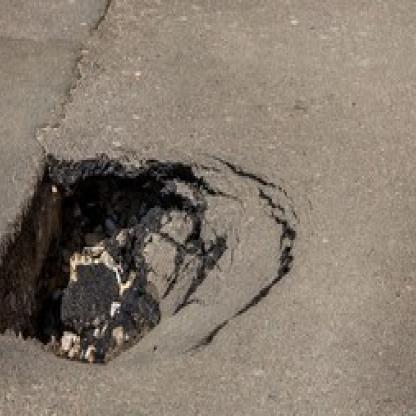pothole: (0, 156, 239, 359)
